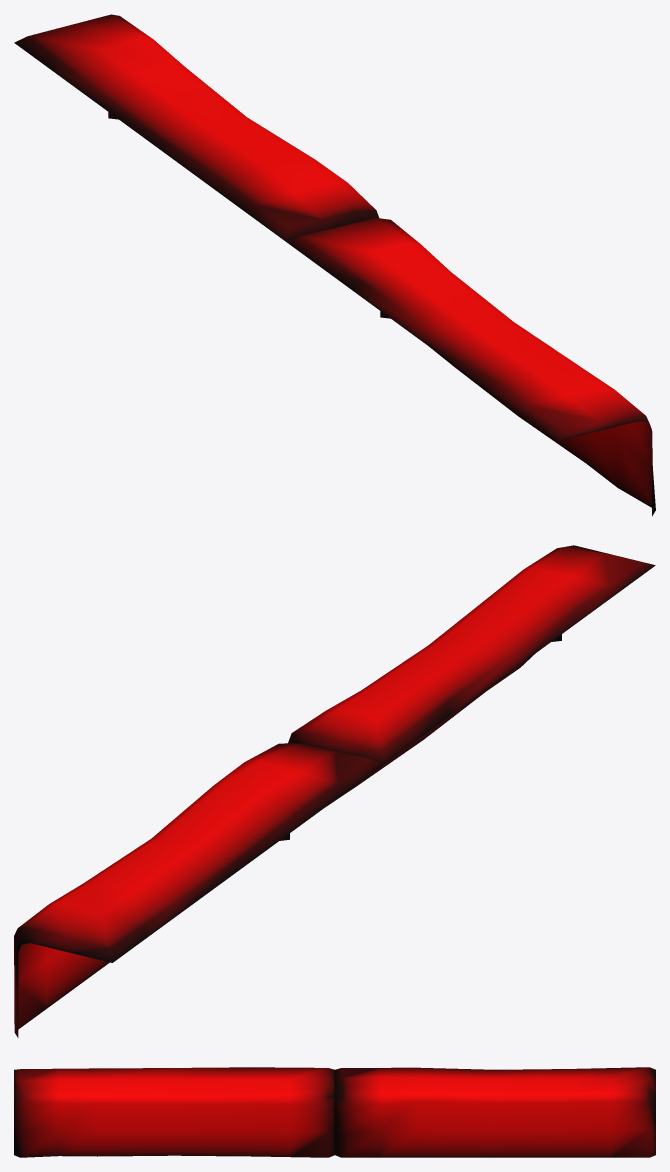
Rendered from curb_2_d.fbx.
3 views of the same model, one above another, from view 1: azimuth 30°, elevation 25°; view 2: azimuth 150°, elevation 25°; view 3: azimuth 270°, elevation 25° (orthographic). The views are drawn at different scales.
Visible parts, largest first — view 1: curb_2_d; view 2: curb_2_d; view 3: curb_2_d.
Part boxes in pixels (box(x1,y1,x2,y2)): curb_2_d: box(14, 14, 655, 516); curb_2_d: box(14, 545, 655, 1037); curb_2_d: box(14, 1067, 655, 1157).
Size of the model in its own units: 0.2244 by 0.2213 by 2.
